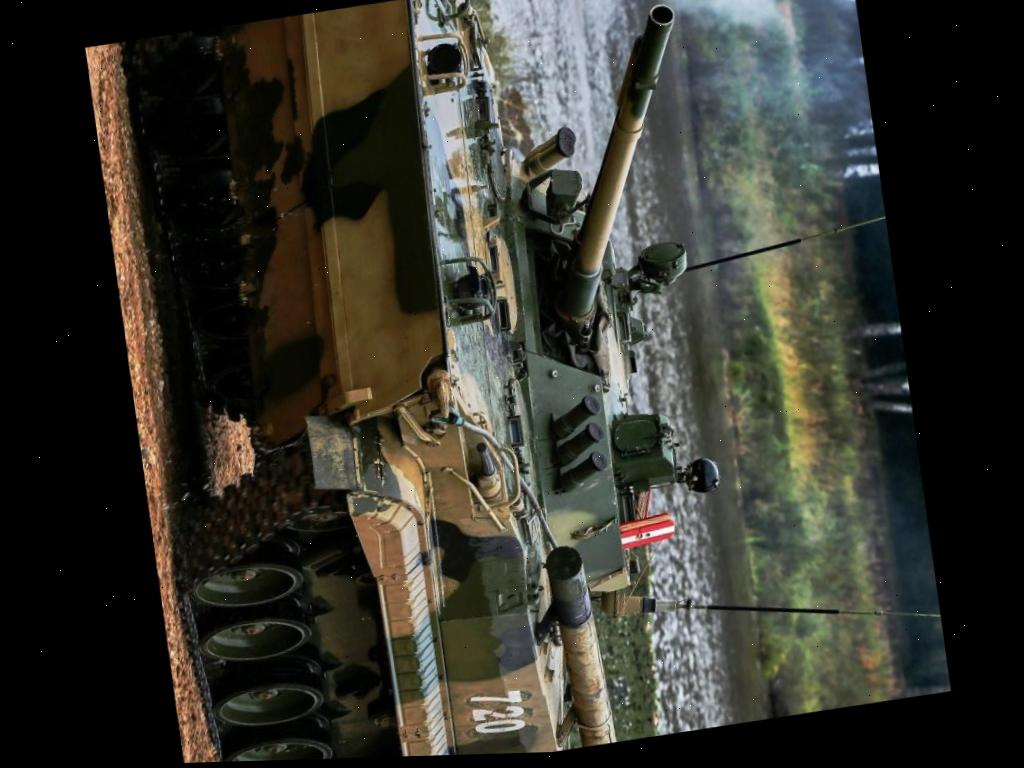tank: (98, 0, 774, 765)
